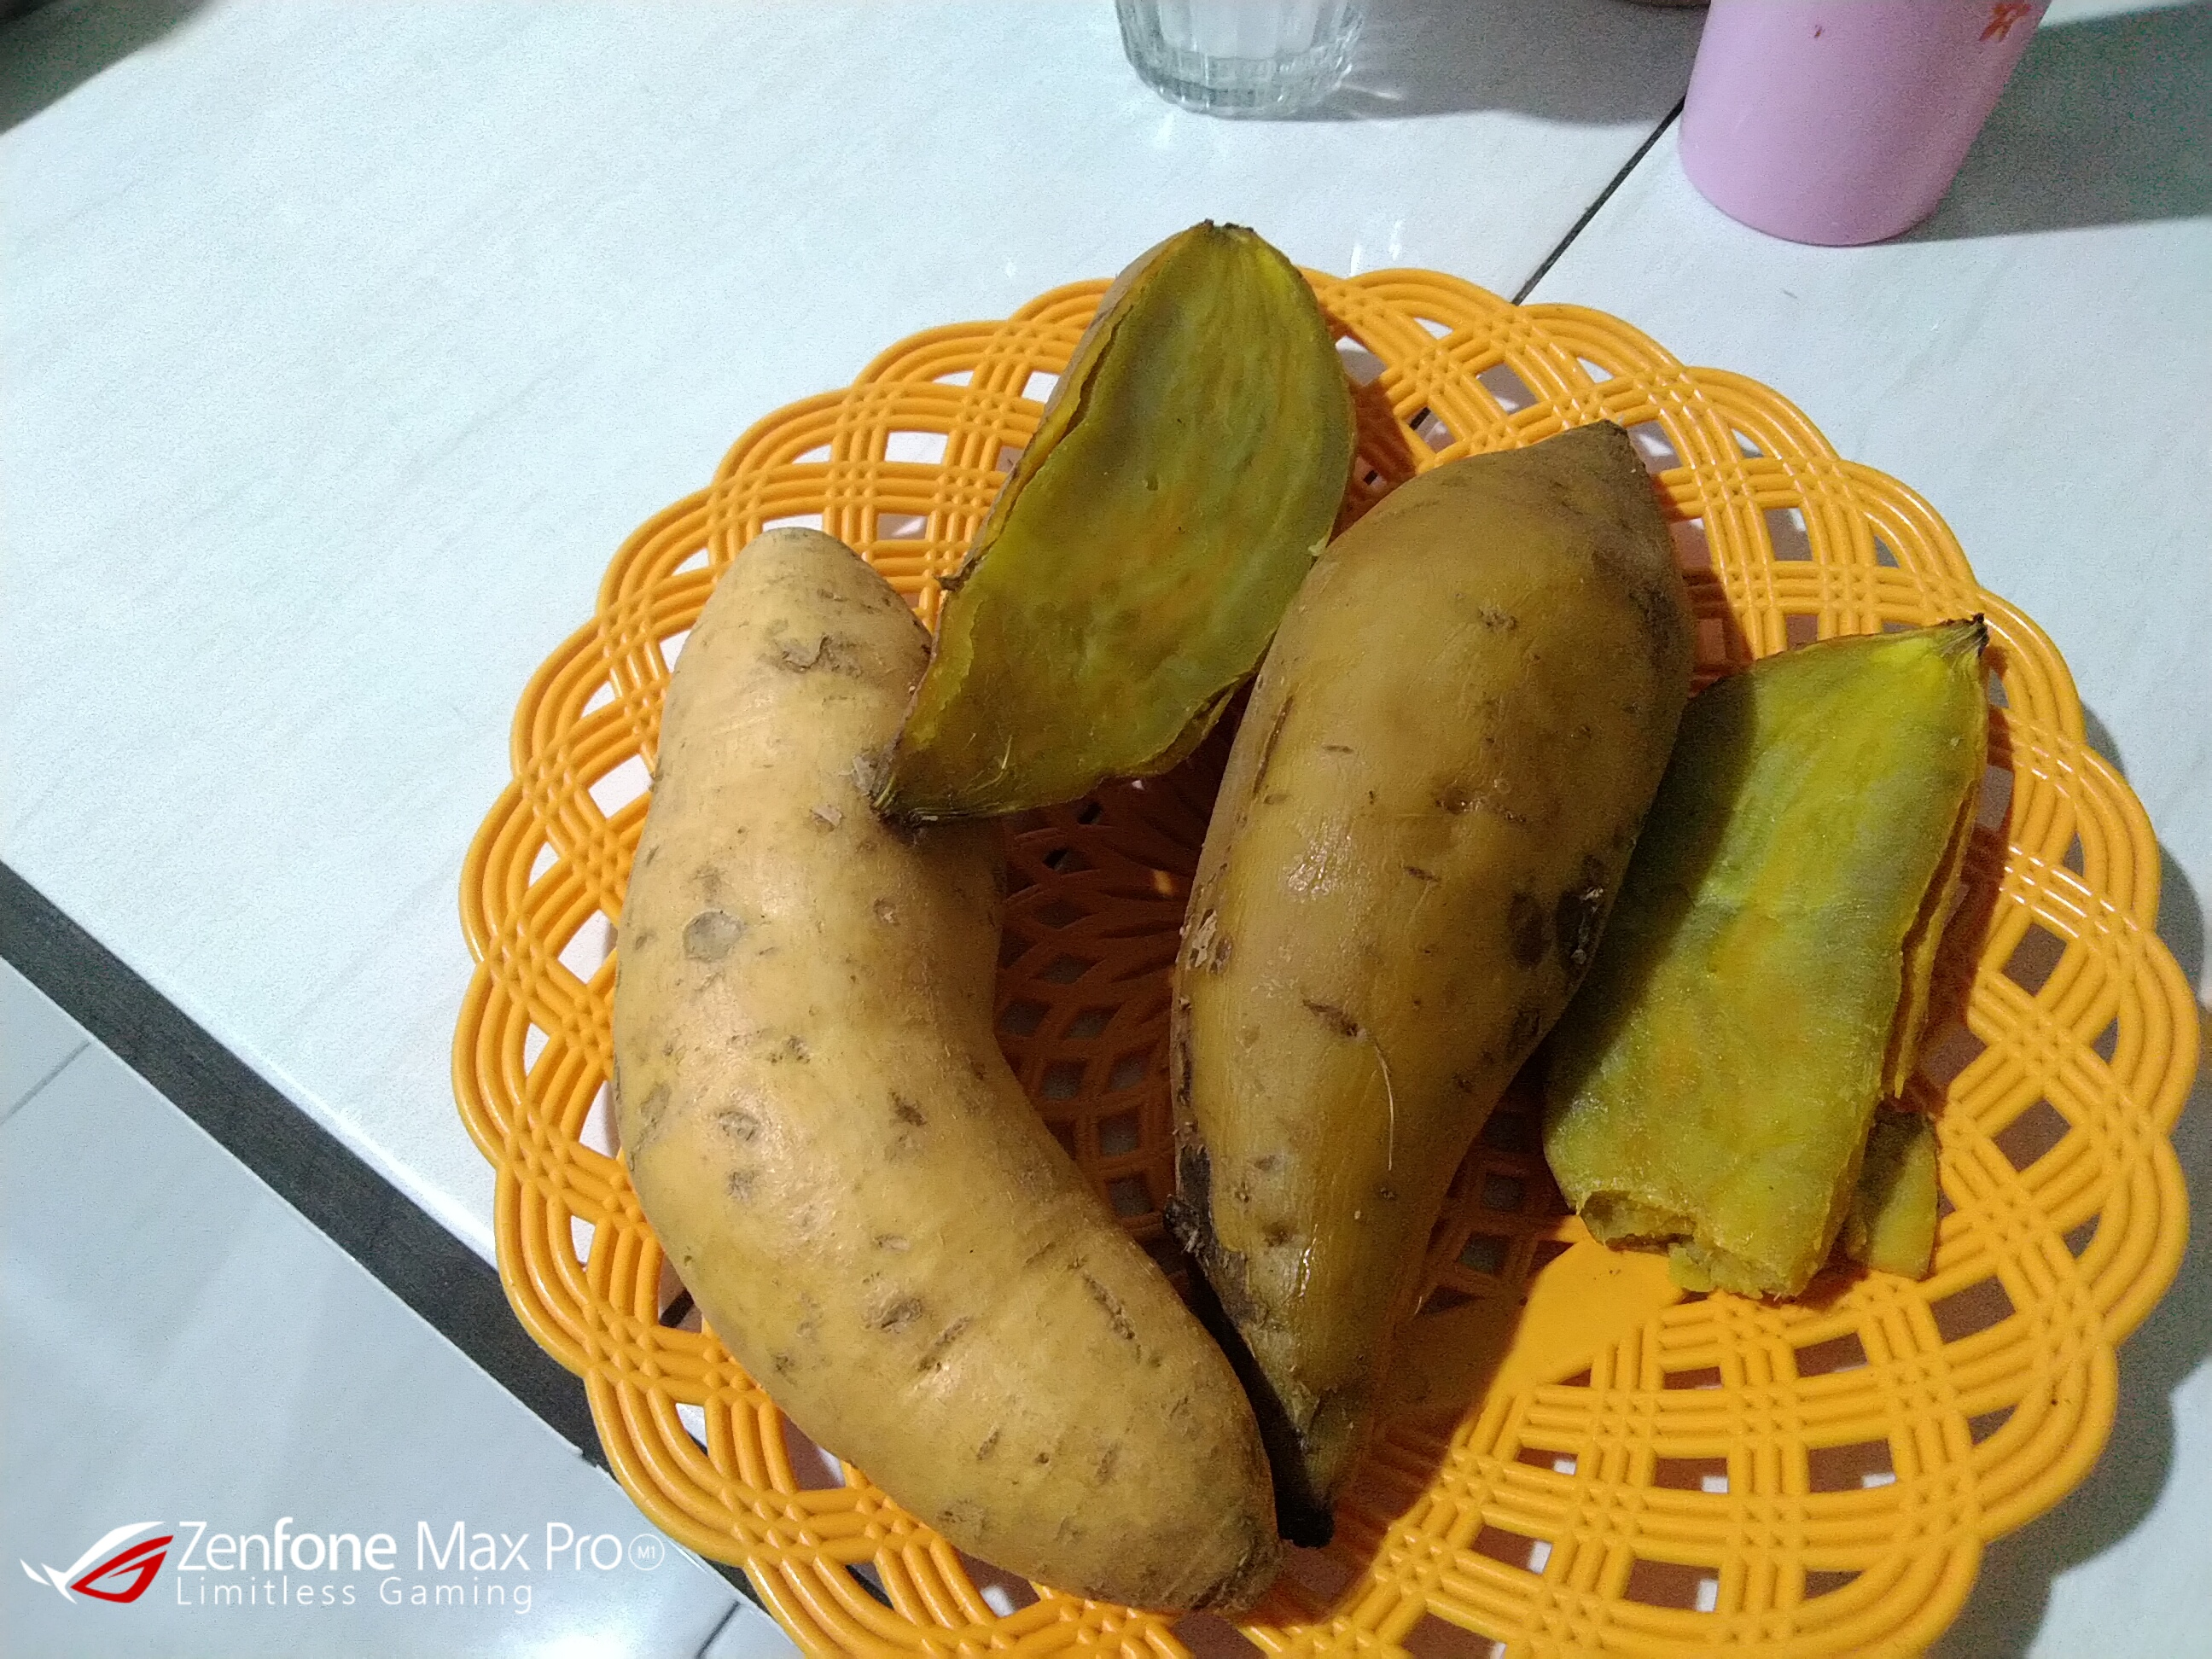ubi cilembu: (604, 514, 1296, 1626), (1157, 390, 1695, 1584), (1529, 573, 2054, 1366), (853, 202, 1385, 870)
